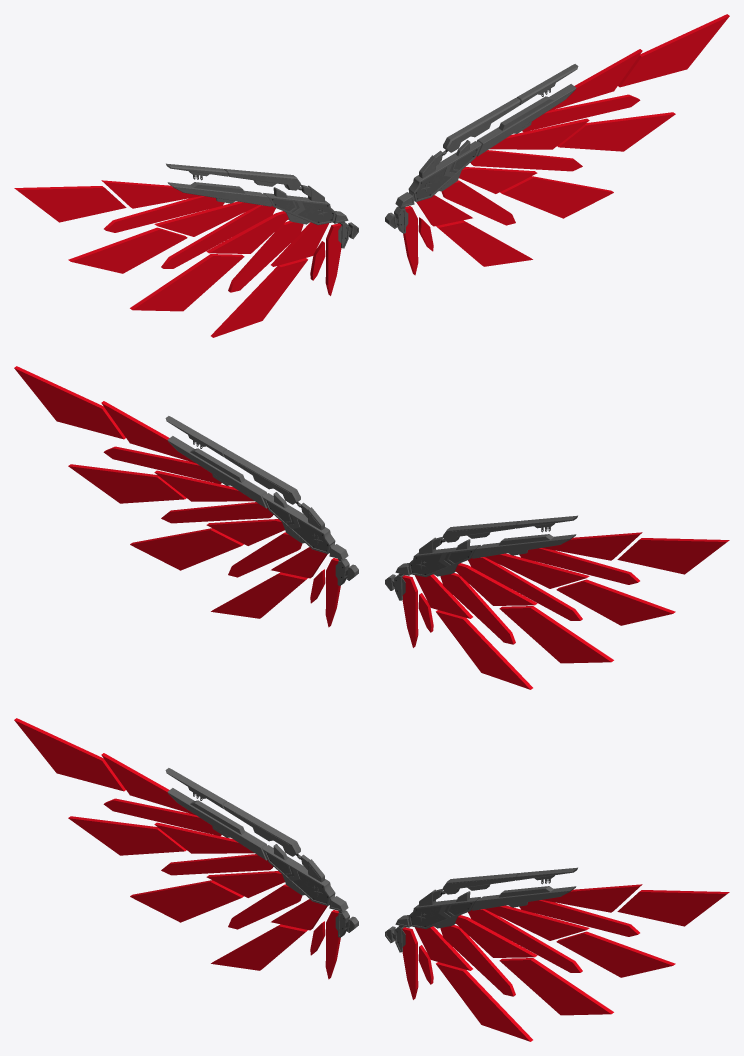
The model's file is jet 6.fbx.
The picture shows the model from 3 angles, top to bottom: view 1: azimuth 30°, elevation 25°; view 2: azimuth 150°, elevation 25°; view 3: azimuth 330°, elevation 25°; orthographic projection.
Visible parts, largest first — view 1: polySurface121_RobotWings_0.002, polySurface121_RobotWings_0.001; view 2: polySurface121_RobotWings_0.002, polySurface121_RobotWings_0.001; view 3: polySurface121_RobotWings_0.001, polySurface121_RobotWings_0.002.
Part boxes in pixels (x1,y1,x2,y2): polySurface121_RobotWings_0.002: (14,163,358,337); polySurface121_RobotWings_0.001: (385,14,729,275); polySurface121_RobotWings_0.002: (385,515,729,689); polySurface121_RobotWings_0.001: (14,366,358,627); polySurface121_RobotWings_0.001: (385,867,729,1041); polySurface121_RobotWings_0.002: (14,718,358,979).
Bounding box in the file's own units: 318 × 83.44 × 4.47.
2 materials, 1 textured.
